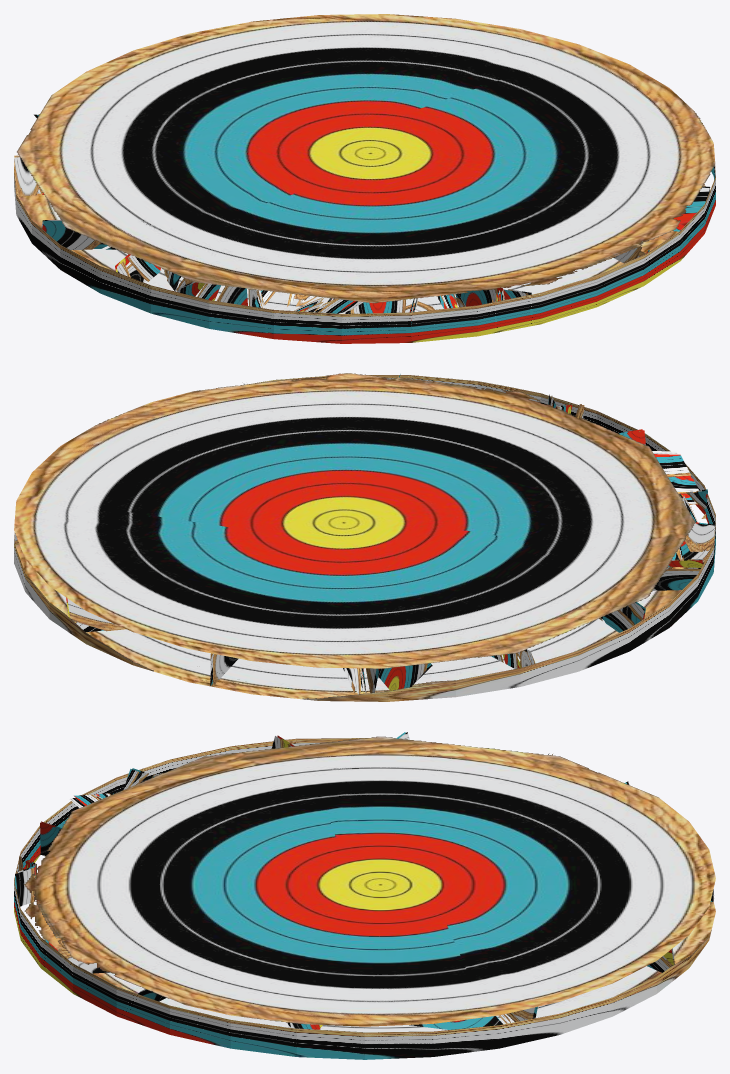
File: Torget2.fbx
3 renders of one model, top to bottom at view 1: azimuth 30°, elevation 25°; view 2: azimuth 150°, elevation 25°; view 3: azimuth 270°, elevation 25°, orthographic.
Parts seen in each view (by area): view 1: Cylinder.003, Cylinder.003_cell, Cylinder.003_cell.006, Cylinder.003_cell.008, Cylinder.003_cell.047, Cylinder.003_cell.003, Cylinder.003_cell.045, Cylinder.003_cell.034, Cylinder.003_cell.018, Cylinder.003_cell.009, Cylinder.003_cell.041, Cylinder.003_cell.028 (+9 smaller); view 2: Cylinder.003, Cylinder.003_cell.006, Cylinder.003_cell, Cylinder.003_cell.003, Cylinder.003_cell.045, Cylinder.003_cell.047, Cylinder.003_cell.021, Cylinder.003_cell.008, Cylinder.003_cell.041, Cylinder.003_cell.040, Cylinder.003_cell.009, Cylinder.003_cell.034 (+5 smaller); view 3: Cylinder.003, Cylinder.003_cell.006, Cylinder.003_cell, Cylinder.003_cell.008, Cylinder.003_cell.003, Cylinder.003_cell.045, Cylinder.003_cell.047, Cylinder.003_cell.041, Cylinder.003_cell.009, Cylinder.003_cell.014, Cylinder.003_cell.001, Cylinder.003_cell.017 (+2 smaller).
Part boxes in pixels (x1=…): Cylinder.003: x1=14, y1=14, x2=715, y2=343; Cylinder.003_cell: x1=114, y1=99, x2=321, y2=218; Cylinder.003_cell.006: x1=305, y1=14, x2=541, y2=109; Cylinder.003_cell.008: x1=531, y1=36, x2=699, y2=129; Cylinder.003_cell.047: x1=14, y1=151, x2=164, y2=248; Cylinder.003_cell.003: x1=170, y1=14, x2=353, y2=88; Cylinder.003_cell.045: x1=73, y1=40, x2=257, y2=108; Cylinder.003_cell.034: x1=39, y1=221, x2=164, y2=301; Cylinder.003_cell.018: x1=453, y1=244, x2=653, y2=325; Cylinder.003_cell.009: x1=423, y1=72, x2=561, y2=129; Cylinder.003_cell.041: x1=14, y1=114, x2=146, y2=194; Cylinder.003_cell.028: x1=165, y1=282, x2=264, y2=337; Cylinder.003: x1=14, y1=373, x2=715, y2=701; Cylinder.003_cell.006: x1=14, y1=507, x2=254, y2=632; Cylinder.003_cell: x1=302, y1=530, x2=578, y2=618; Cylinder.003_cell.003: x1=67, y1=580, x2=263, y2=686; Cylinder.003_cell.045: x1=212, y1=596, x2=363, y2=701; Cylinder.003_cell.047: x1=469, y1=566, x2=644, y2=680; Cylinder.003_cell.021: x1=202, y1=436, x2=519, y2=546; Cylinder.003_cell.008: x1=15, y1=420, x2=197, y2=547; Cylinder.003_cell.041: x1=394, y1=619, x2=531, y2=696; Cylinder.003_cell.040: x1=352, y1=616, x2=427, y2=701; Cylinder.003_cell.009: x1=99, y1=465, x2=228, y2=525; Cylinder.003_cell.034: x1=601, y1=560, x2=704, y2=645; Cylinder.003: x1=14, y1=737, x2=713, y2=1059; Cylinder.003_cell.006: x1=446, y1=893, x2=675, y2=1040; Cylinder.003_cell: x1=324, y1=779, x2=565, y2=873; Cylinder.003_cell.008: x1=290, y1=968, x2=534, y2=1059; Cylinder.003_cell.003: x1=548, y1=868, x2=715, y2=977; Cylinder.003_cell.045: x1=563, y1=812, x2=713, y2=876; Cylinder.003_cell.047: x1=352, y1=732, x2=549, y2=791; Cylinder.003_cell.041: x1=517, y1=754, x2=629, y2=817; Cylinder.003_cell.009: x1=336, y1=925, x2=507, y2=1023; Cylinder.003_cell.014: x1=124, y1=990, x2=295, y2=1056; Cylinder.003_cell.001: x1=439, y1=864, x2=566, y2=903; Cylinder.003_cell.017: x1=47, y1=943, x2=146, y2=1016.
Bounding box in the file's own units: 49.52 × 2.58 × 49.52.
